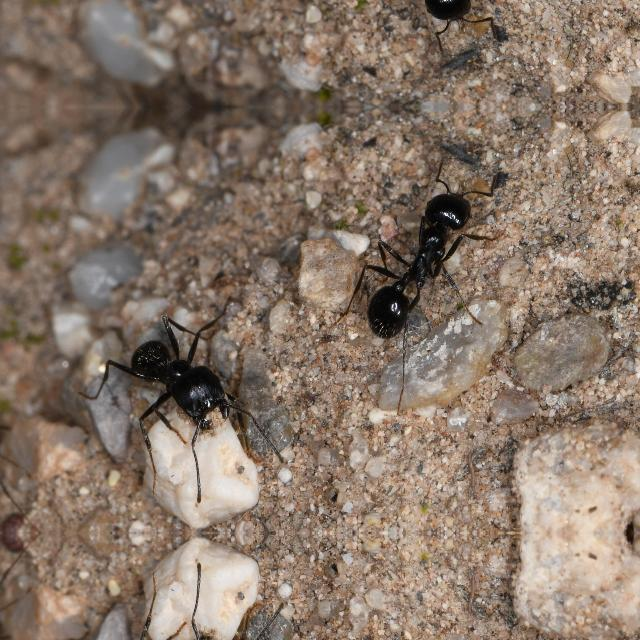Messor: (344, 164, 490, 366), (108, 325, 244, 443), (344, 0, 489, 48)
